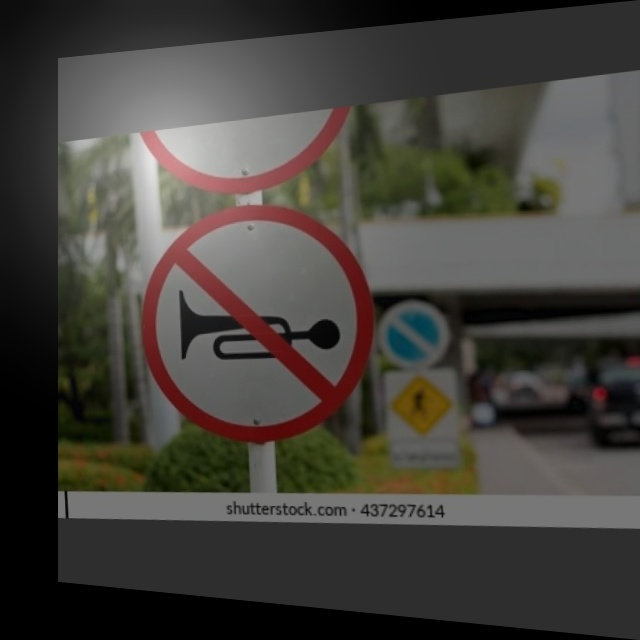Horn_Prohibited: (135, 194, 380, 450)
